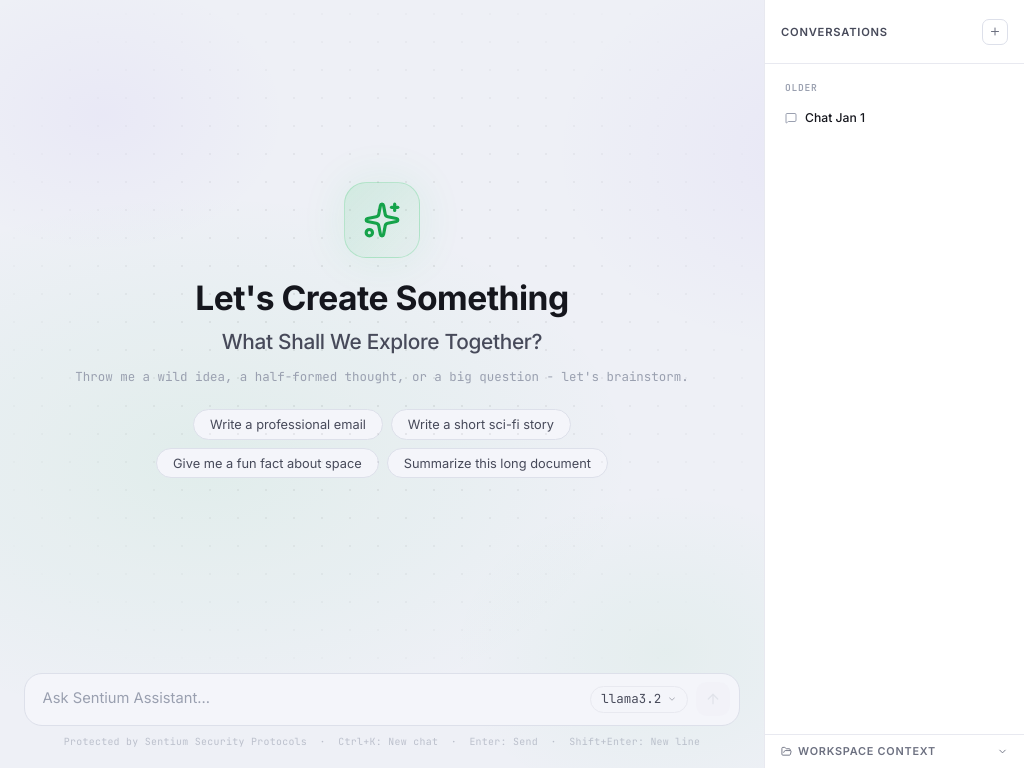
Assistant model selection › updates model when model selector is changed
Click the text "llama3.2": click(639, 699) left=590, top=686, right=688, bottom=713
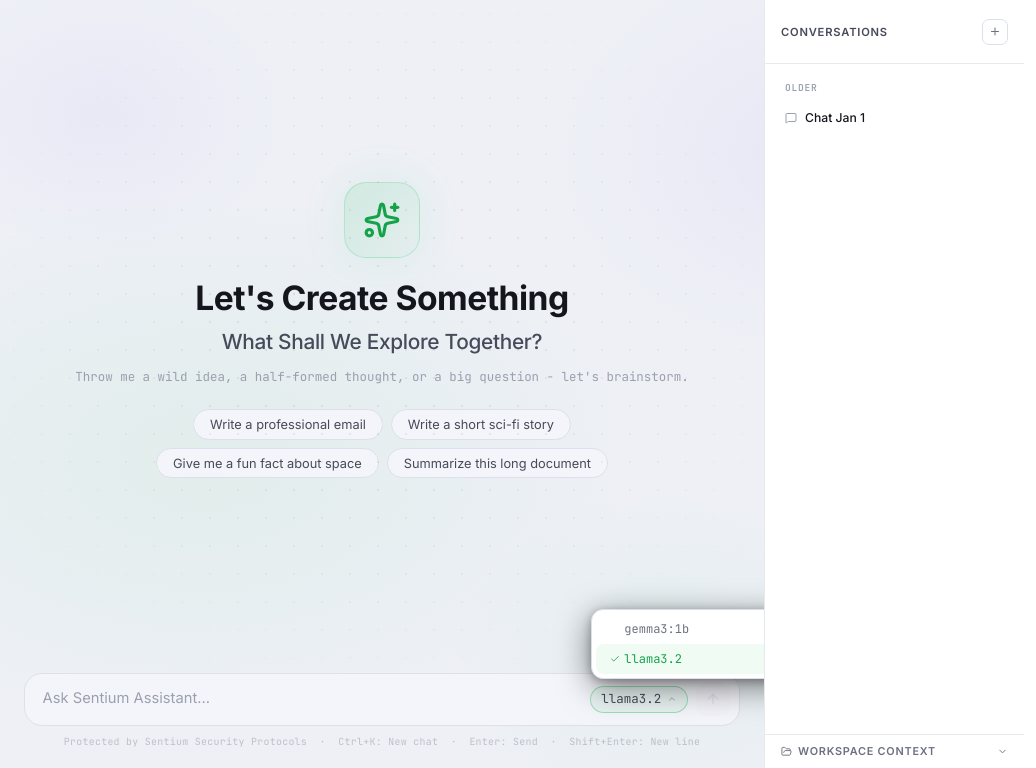
Click the button "gemma3:1b": click(711, 629) left=596, top=614, right=826, bottom=644
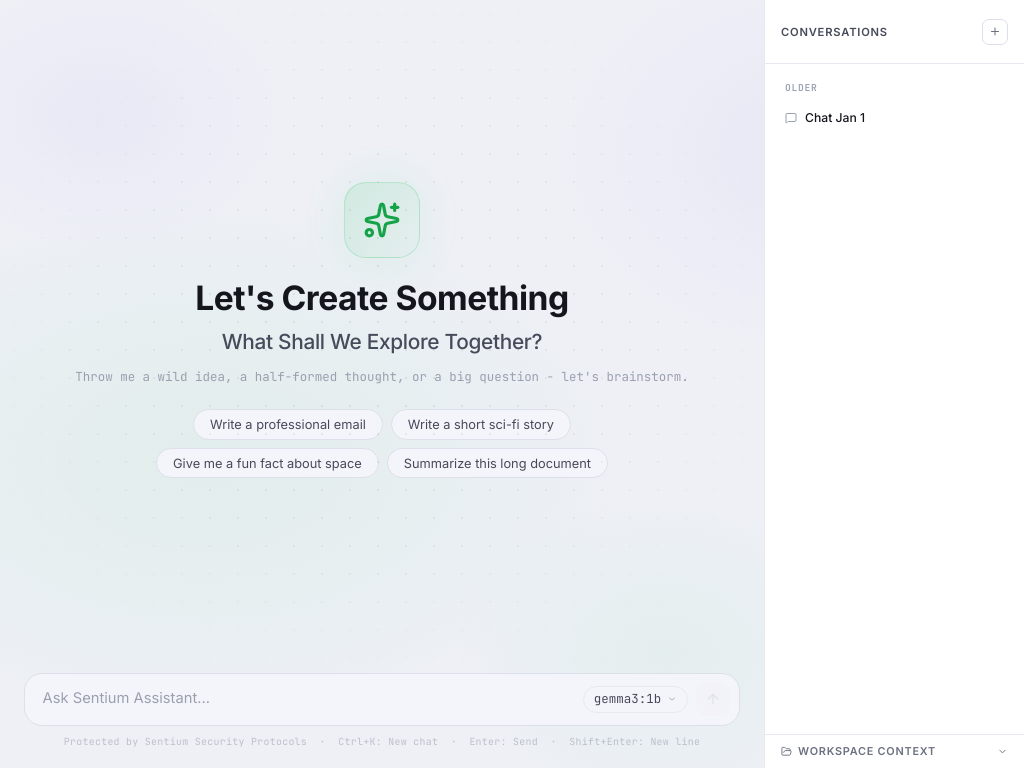
Result: the text "gemma3:1b" is shown at left=594, top=693, right=661, bottom=706
